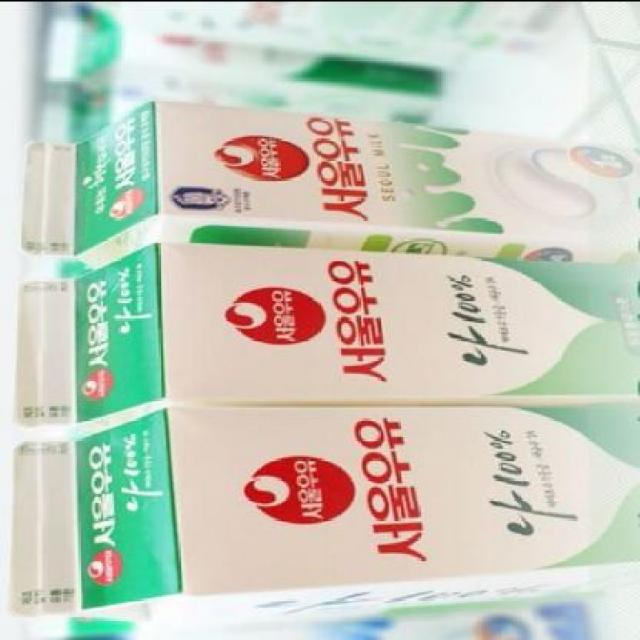non_white_jug: (0, 395, 638, 629), (0, 237, 638, 431), (1, 95, 638, 271)
